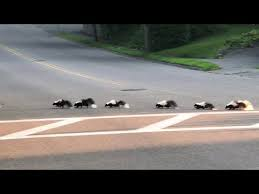skunk: (225, 96, 256, 113), (102, 98, 130, 112), (155, 98, 179, 111), (51, 98, 74, 110), (73, 96, 94, 108), (192, 101, 215, 111)
